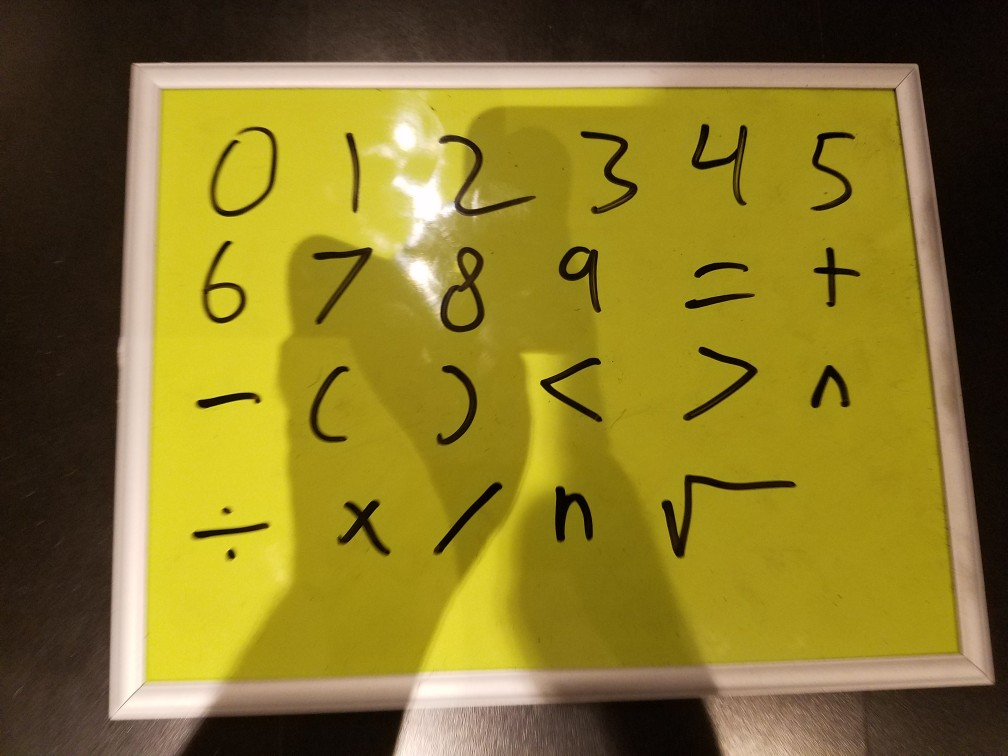(: (289, 354, 357, 454)
): (424, 353, 485, 453)
+: (797, 238, 859, 320)
-: (189, 373, 265, 421)
/: (426, 475, 509, 570)
0: (198, 116, 286, 224)
1: (326, 123, 380, 221)
2: (429, 110, 535, 227)
3: (566, 112, 642, 227)
4: (674, 109, 756, 218)
5: (791, 116, 868, 224)
6: (188, 228, 251, 344)
7: (304, 227, 376, 330)
8: (422, 230, 509, 344)
9: (542, 229, 615, 324)
<: (532, 342, 611, 426)
=: (666, 245, 765, 318)
>: (666, 338, 773, 433)
^: (799, 352, 863, 423)
div: (186, 493, 282, 586)
n: (534, 473, 616, 557)
sqrt: (650, 457, 805, 573)
x: (330, 486, 397, 564)
